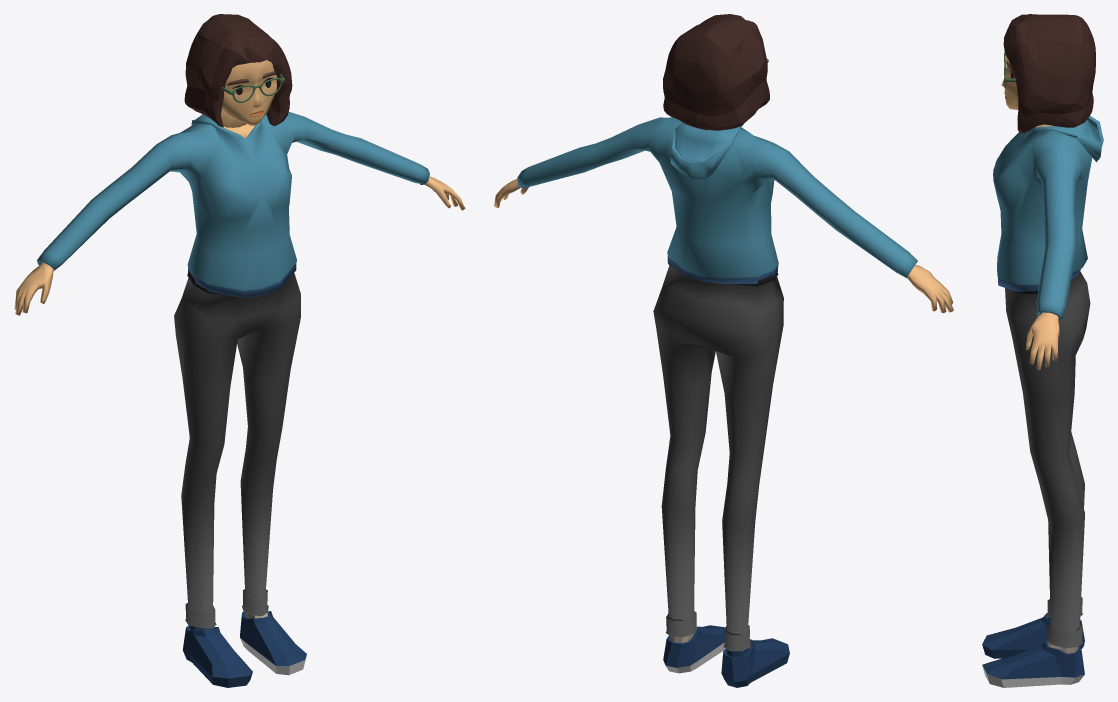
Rendered from TestAgain.fbx.
3 views of the same model, side by side, from view 1: azimuth 30°, elevation 25°; view 2: azimuth 150°, elevation 25°; view 3: azimuth 270°, elevation 25° (orthographic).
Parts seen in each view (by area): view 1: Sweatshirt T, Pants 1, Hair 1, Shoes 1, Head; view 2: Pants 1, Sweatshirt T, Hair 1, Shoes 1; view 3: Sweatshirt T, Pants 1, Hair 1, Shoes 1, Head.
Part boxes in pixels (x1=…): Sweatshirt T: x1=14, y1=112, x2=465, y2=315; Pants 1: x1=174, y1=271, x2=300, y2=628; Hair 1: x1=184, y1=14, x2=292, y2=127; Shoes 1: x1=183, y1=611, x2=306, y2=687; Head: x1=221, y1=60, x2=277, y2=127; Pants 1: x1=653, y1=263, x2=783, y2=651; Sweatshirt T: x1=494, y1=117, x2=953, y2=313; Hair 1: x1=663, y1=14, x2=769, y2=130; Shoes 1: x1=663, y1=625, x2=789, y2=687; Sweatshirt T: x1=993, y1=116, x2=1103, y2=369; Pants 1: x1=1005, y1=271, x2=1090, y2=648; Hair 1: x1=1003, y1=14, x2=1095, y2=133; Shoes 1: x1=982, y1=613, x2=1084, y2=687; Head: x1=1001, y1=54, x2=1052, y2=130.
Size of the model in its own units: 140 by 190 by 32.34.
